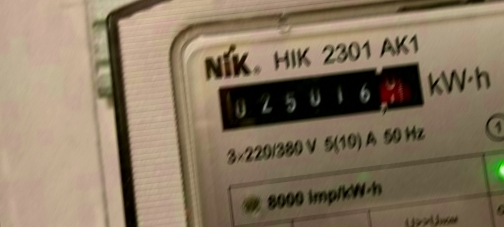0: (308, 82, 324, 106), (233, 95, 248, 118), (382, 68, 397, 89)
1: (332, 78, 346, 104), (387, 91, 396, 103)
2: (258, 89, 274, 113)
5: (283, 89, 297, 111)
6: (356, 78, 372, 105)
screen: (207, 51, 435, 138)
